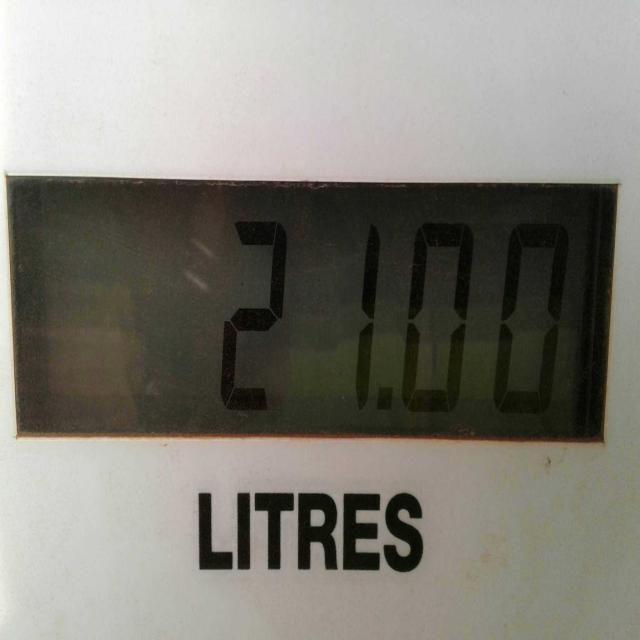.: (370, 371, 398, 433)
0: (390, 208, 479, 429), (488, 184, 566, 420)
1: (327, 208, 380, 422)
2: (211, 200, 298, 429)
